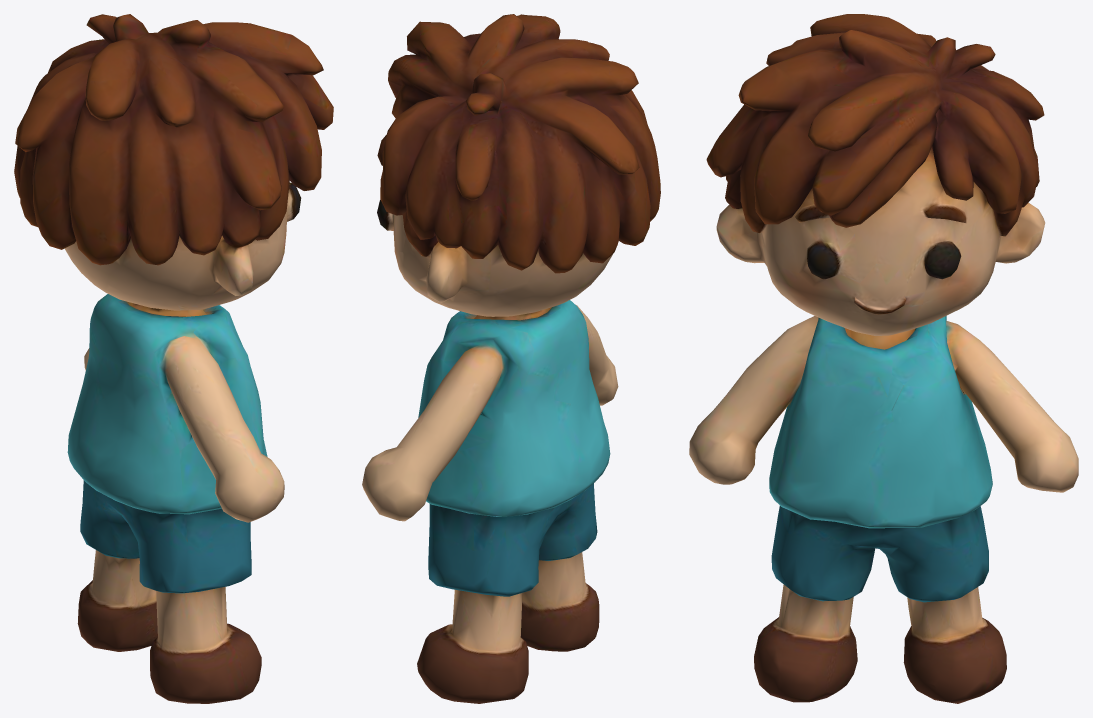
The model's file is boy.glb.
3 renders of one model, left to right at view 1: azimuth 30°, elevation 25°; view 2: azimuth 150°, elevation 25°; view 3: azimuth 270°, elevation 25°, orthographic. The views are drawn at different scales.
Parts seen in each view (by area): view 1: tripo_node_64a3a7cd-552e-45b9-8cec-9a3818722842; view 2: tripo_node_64a3a7cd-552e-45b9-8cec-9a3818722842; view 3: tripo_node_64a3a7cd-552e-45b9-8cec-9a3818722842.
Part boxes in pixels (<box>): tripo_node_64a3a7cd-552e-45b9-8cec-9a3818722842: <box>14,14,333,703</box>; tripo_node_64a3a7cd-552e-45b9-8cec-9a3818722842: <box>362,14,660,703</box>; tripo_node_64a3a7cd-552e-45b9-8cec-9a3818722842: <box>689,14,1078,703</box>.
Size of the model in its own units: 0.4526 by 1 by 0.5356.
1 material, 1 textured.
